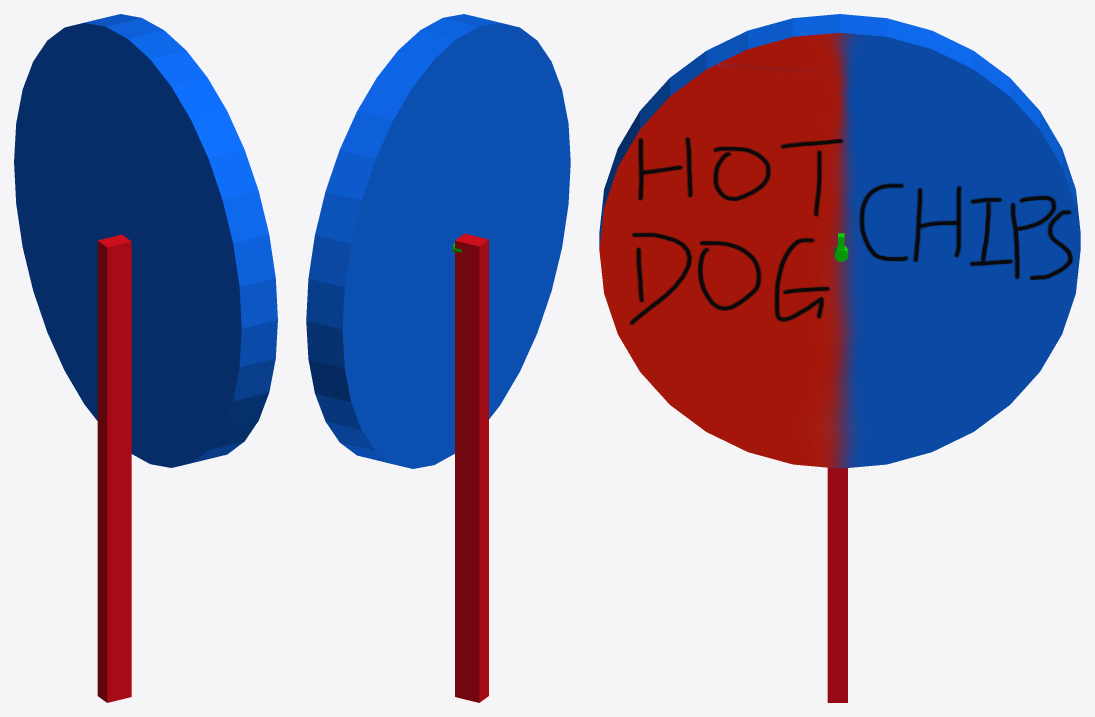
File: spinner.fbx
3 views of the same model, side by side, from view 1: azimuth 30°, elevation 25°; view 2: azimuth 150°, elevation 25°; view 3: azimuth 270°, elevation 25° (orthographic). The views are drawn at different scales.
Parts seen in each view (by area): view 1: 柱体, Cube; view 2: 柱体, Cube; view 3: 柱体, Cube.
Boxes of the visible parts, box(x1,y1,x2,y2) form: 柱体: box(14, 14, 277, 467); Cube: box(97, 234, 131, 702); 柱体: box(306, 14, 570, 468); Cube: box(455, 233, 488, 702); 柱体: box(599, 14, 1080, 468); Cube: box(827, 467, 847, 702).
Size of the model in its own units: 54.67 by 478 by 302.
Materials: 3 (1 with a texture image).
